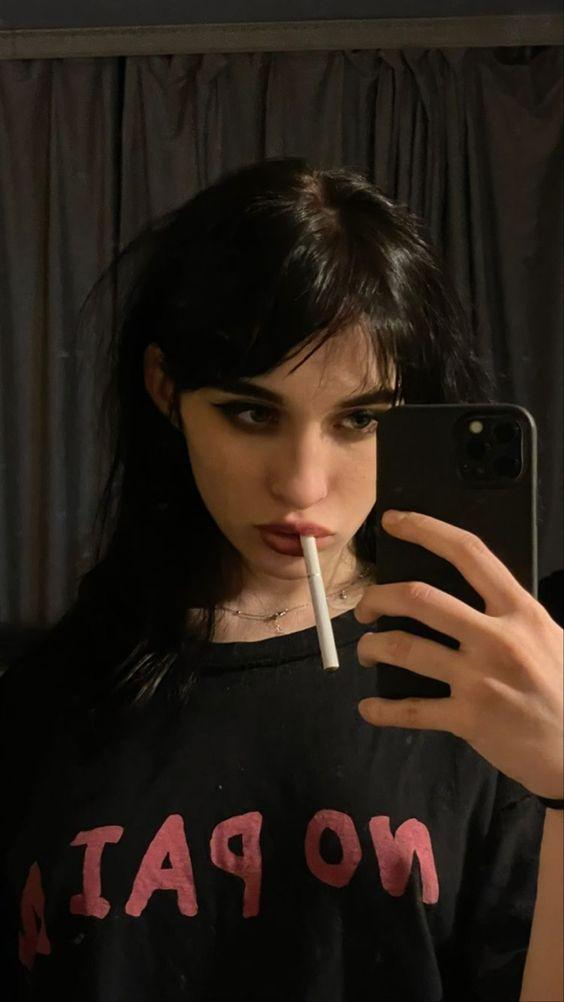cigarette: (300, 538, 341, 674)
